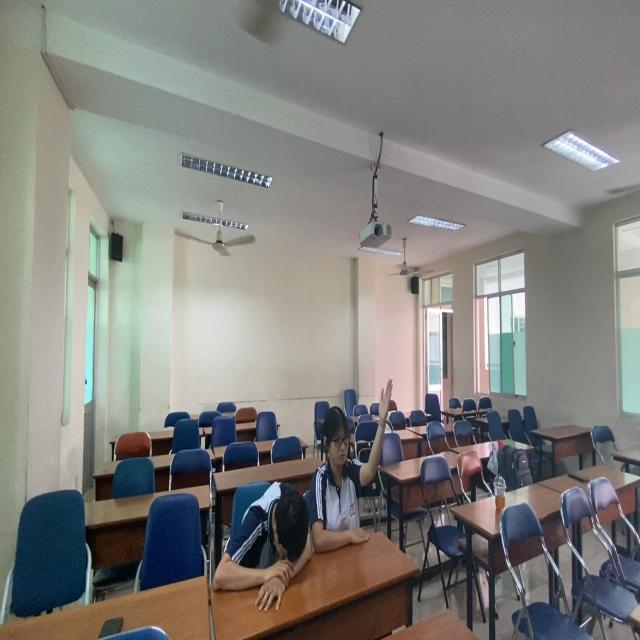raise_hand: (316, 376, 396, 532)
sleep: (214, 476, 312, 598)
